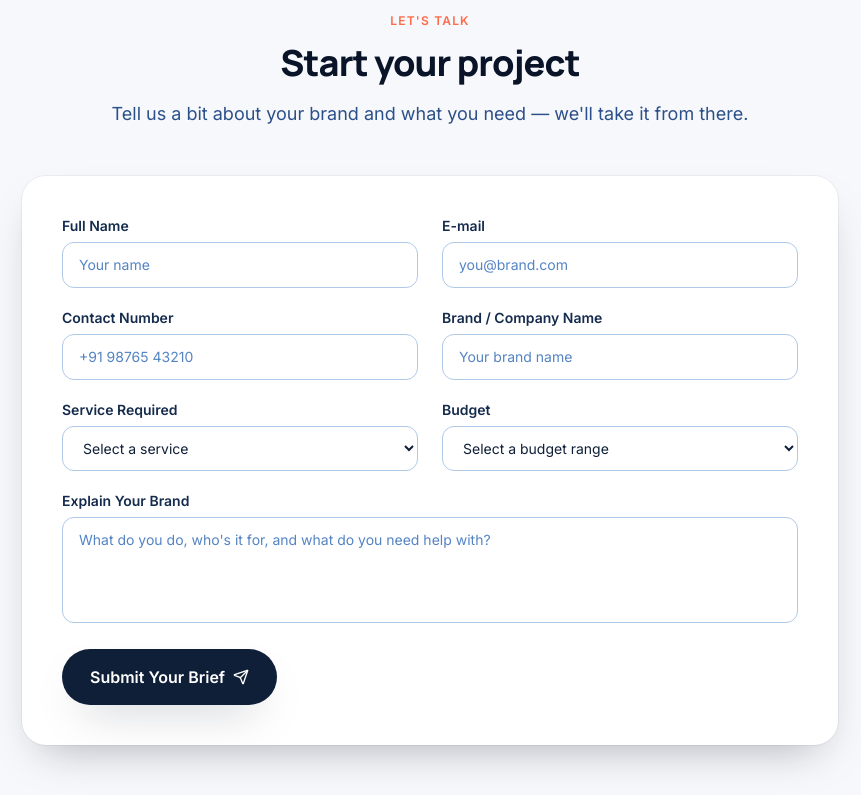
Test: ContactForm › shows validation errors when submitted empty
Click the button "Submit Your Brief" at coordinates (170, 677), box left=62, top=649, right=277, bottom=705
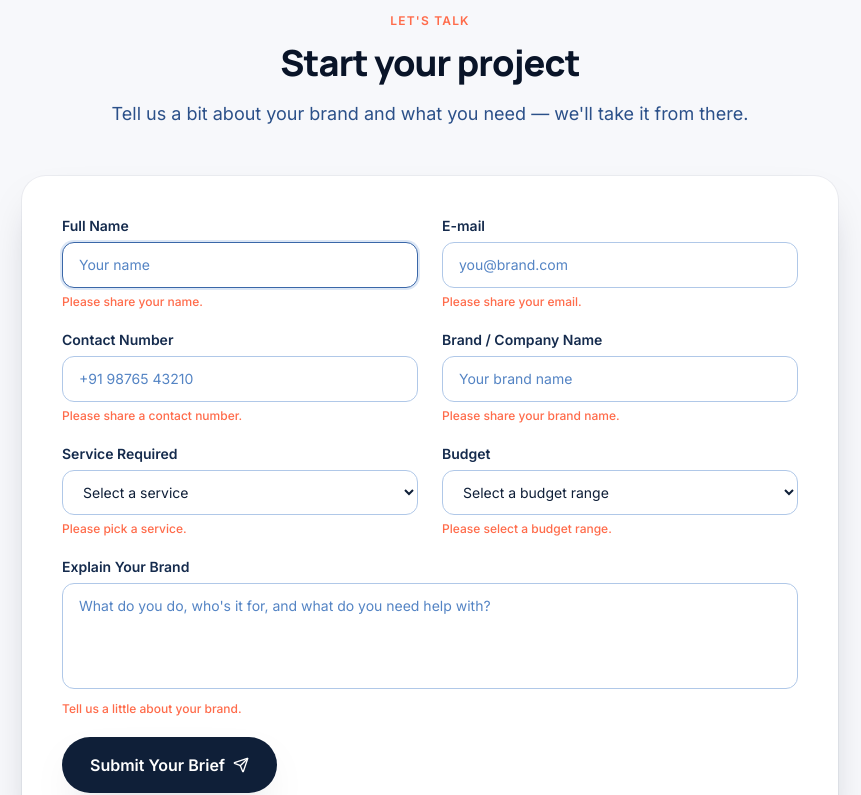
Check: the text "Please share your name." is shown, box left=62, top=294, right=203, bottom=309
Check: the text "Please share your email." is shown, box left=442, top=294, right=582, bottom=309
Check: the text "Please share a contact number." is shown, box left=62, top=408, right=242, bottom=423
